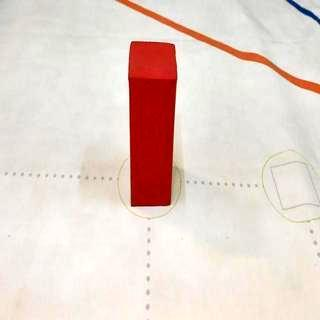redbox: (126, 41, 176, 204)
